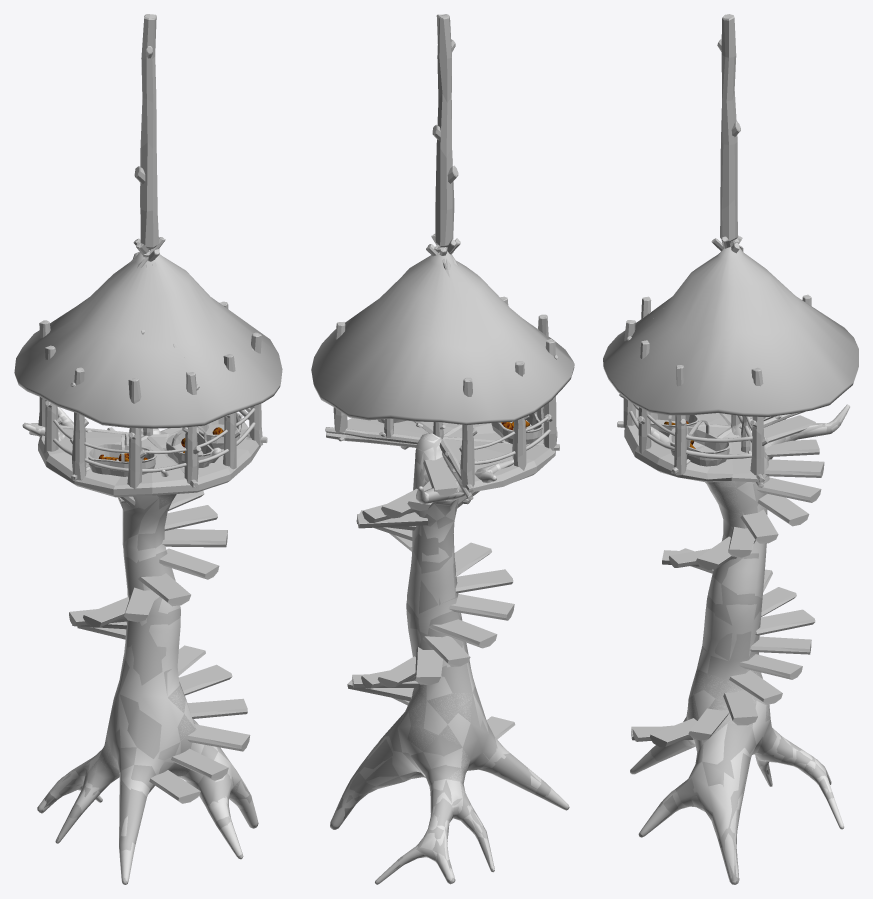
File: TreeFolk6.fbx
The picture shows the model from 3 angles, left to right: view 1: azimuth 30°, elevation 25°; view 2: azimuth 150°, elevation 25°; view 3: azimuth 270°, elevation 25°; orthographic projection. The views are drawn at different scales.
Visible parts, largest first — view 1: Roof.001, Tree.001, Tree.001.backup, Floor.001, Branch.template, Basket.001, Stair.008, Branch.015, Stair.020, Branch.011, Branch.016, Stair.009 (+13 smaller); view 2: Roof.001, Tree.001, Tree.001.backup, Branch.template, Floor.001, Stair.012, Stair.001, Branch.012, Stair.011, Stair.022, Stair.013, Stair.002 (+9 smaller); view 3: Roof.001, Tree.001.backup, Tree.001, Branch.template, Floor.001, Basket.002, Stair.003, Branch.009, Stair.004, Stair.013, Stair.015, Stair.014 (+14 smaller).
Part boxes in pixels (x1=…): Roof.001: x1=14, y1=252, x2=282, y2=428; Tree.001: x1=22, y1=409, x2=258, y2=884; Tree.001.backup: x1=22, y1=407, x2=258, y2=884; Floor.001: x1=38, y1=422, x2=260, y2=497; Branch.template: x1=134, y1=14, x2=158, y2=248; Basket.001: x1=86, y1=433, x2=157, y2=476; Stair.008: x1=162, y1=529, x2=227, y2=547; Branch.015: x1=127, y1=377, x2=146, y2=489; Stair.020: x1=186, y1=724, x2=250, y2=751; Branch.011: x1=70, y1=367, x2=88, y2=480; Branch.016: x1=182, y1=372, x2=201, y2=483; Stair.009: x1=159, y1=548, x2=219, y2=579; Roof.001: x1=311, y1=247, x2=574, y2=425; Tree.001: x1=330, y1=433, x2=569, y2=884; Tree.001.backup: x1=330, y1=433, x2=568, y2=884; Branch.template: x1=432, y1=14, x2=458, y2=247; Floor.001: x1=346, y1=412, x2=557, y2=491; Stair.012: x1=448, y1=594, x2=514, y2=620; Stair.001: x1=428, y1=619, x2=497, y2=648; Branch.012: x1=459, y1=377, x2=477, y2=487; Stair.011: x1=455, y1=569, x2=513, y2=593; Stair.022: x1=423, y1=456, x2=457, y2=496; Stair.013: x1=415, y1=647, x2=442, y2=685; Stair.002: x1=422, y1=636, x2=470, y2=666; Roof.001: x1=603, y1=247, x2=858, y2=416; Tree.001.backup: x1=630, y1=405, x2=849, y2=884; Tree.001: x1=630, y1=404, x2=849, y2=884; Branch.template: x1=717, y1=14, x2=740, y2=242; Floor.001: x1=624, y1=409, x2=757, y2=482; Basket.002: x1=668, y1=420, x2=731, y2=466; Stair.003: x1=765, y1=459, x2=824, y2=477; Branch.009: x1=750, y1=367, x2=768, y2=475; Stair.004: x1=756, y1=477, x2=821, y2=502; Stair.013: x1=755, y1=609, x2=815, y2=635; Stair.015: x1=739, y1=654, x2=802, y2=679; Stair.014: x1=750, y1=636, x2=811, y2=654.
Size of what is drawn, in the model's own units: 631 by 2224 by 639.
